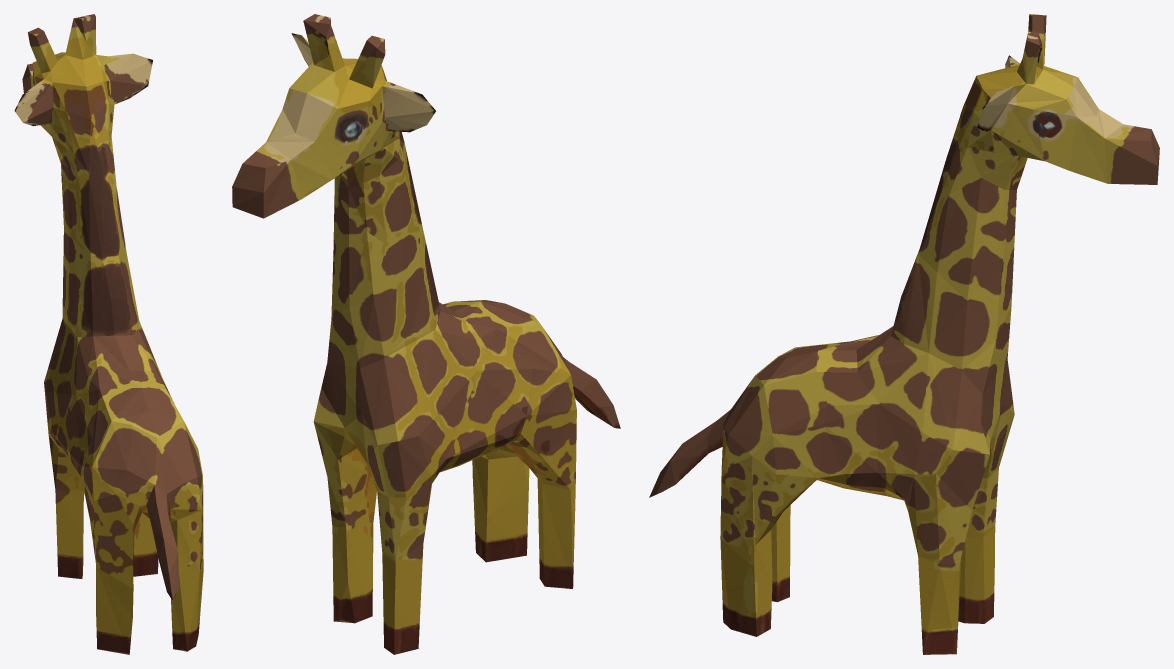
3 renders of one model, left to right at view 1: azimuth 30°, elevation 25°; view 2: azimuth 150°, elevation 25°; view 3: azimuth 270°, elevation 25°, orthographic. The views are drawn at different scales.
Parts seen in each view (by area): view 1: Simplified; view 2: Simplified; view 3: Simplified.
Part boxes in pixels (x1,y1,x2,y2): Simplified: (14,14,203,654); Simplified: (232,14,620,654); Simplified: (649,14,1159,654).
Bounding box in the file's own units: 0.1738 × 0.5951 × 0.4545.
1 material, 1 textured.
